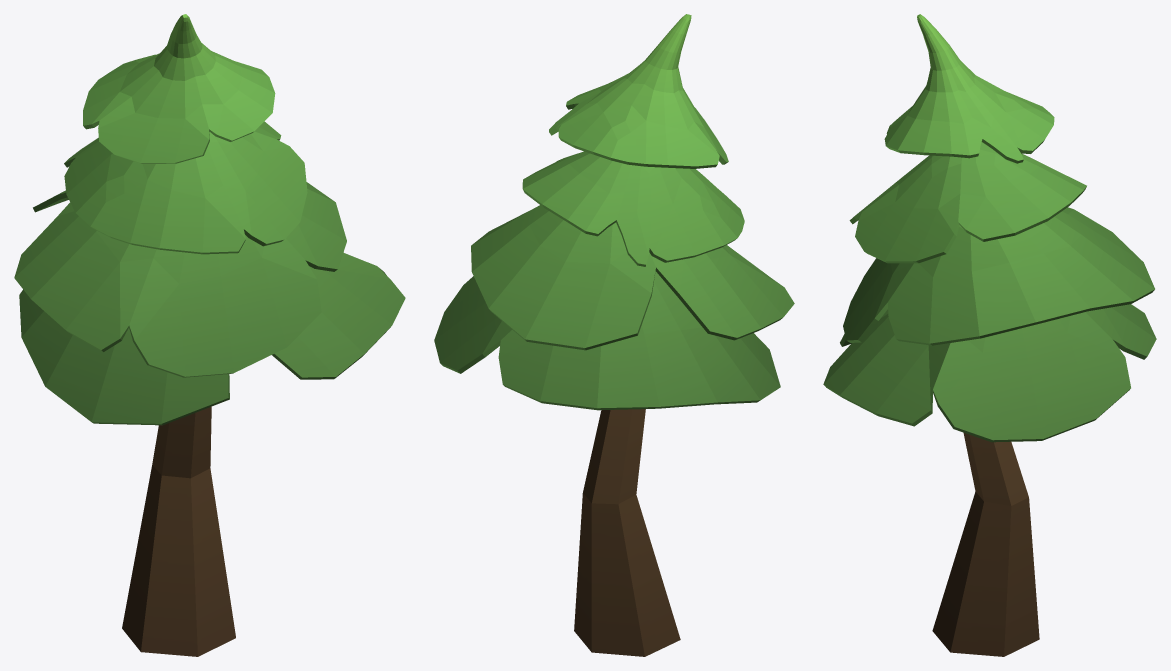
File: PineTree5.fbx
The picture shows the model from 3 angles, left to right: view 1: azimuth 30°, elevation 25°; view 2: azimuth 150°, elevation 25°; view 3: azimuth 270°, elevation 25°; orthographic projection. The views are drawn at different scales.
Parts seen in each view (by area): view 1: PineTree_5_Cylinder.028; view 2: PineTree_5_Cylinder.028; view 3: PineTree_5_Cylinder.028.
Boxes of the visible parts, x1,y1,x2,y2 form: PineTree_5_Cylinder.028: (14, 14, 405, 656); PineTree_5_Cylinder.028: (434, 14, 794, 656); PineTree_5_Cylinder.028: (823, 14, 1156, 656).
Bounding box in the file's own units: 147 × 269 × 134.
